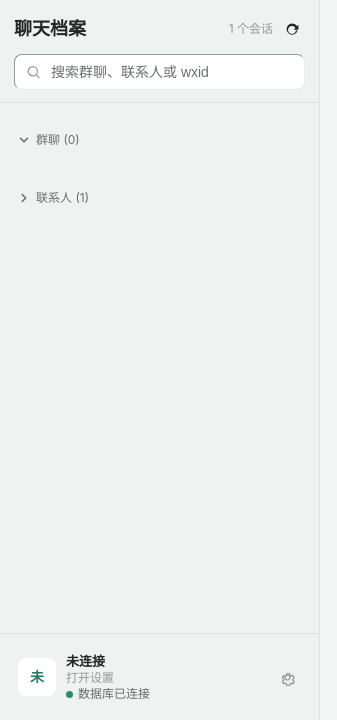
Test case: ConversationSidebar › reveals contact results when searching a collapsed contact section
Expected: the text "微信昵称" is not shown
Type "xiaohao" into the search field named "搜索会话". click: (160, 72)
box: x1=14 y1=54 x2=305 y2=90
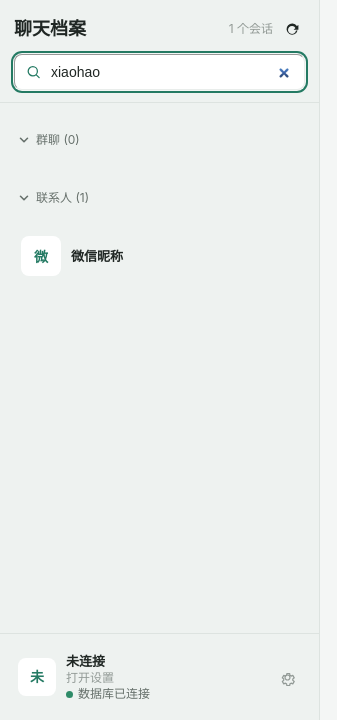
Now the text "微信昵称" is shown, box x1=71 y1=248 x2=123 y2=264
